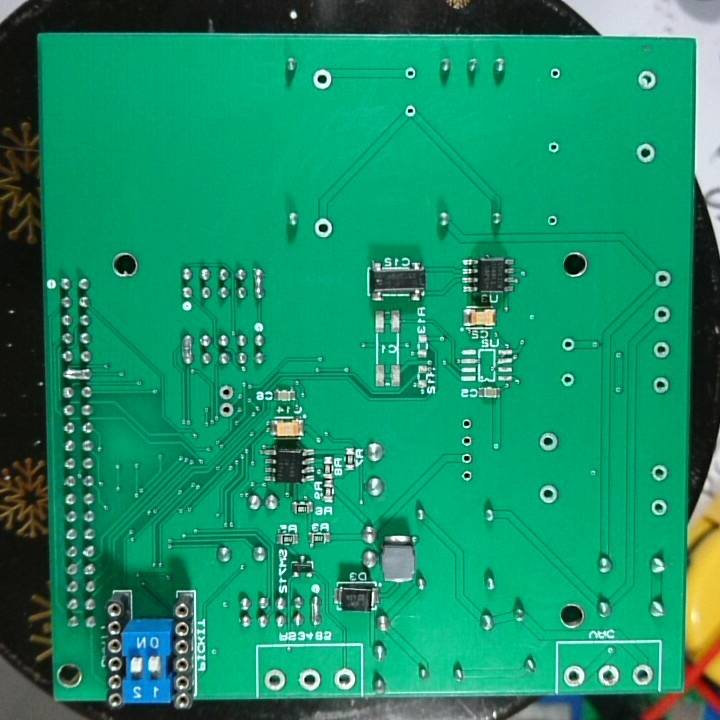F: (558, 662, 591, 692), (296, 666, 324, 693), (632, 139, 659, 166), (261, 666, 288, 692), (595, 663, 623, 688), (631, 660, 655, 689), (331, 666, 357, 692), (650, 303, 676, 328), (633, 68, 660, 92), (536, 481, 561, 506), (537, 429, 561, 455), (311, 217, 336, 241), (310, 68, 334, 91), (652, 339, 673, 364), (651, 269, 674, 291), (649, 496, 670, 519), (651, 376, 673, 397), (650, 462, 671, 484), (216, 400, 237, 421), (216, 383, 238, 403), (559, 370, 577, 392), (559, 334, 576, 355), (402, 102, 420, 121), (544, 210, 559, 232), (545, 138, 562, 157), (459, 415, 476, 432), (459, 432, 476, 449), (459, 449, 476, 466), (459, 467, 474, 486), (403, 64, 419, 81), (547, 66, 563, 82)
P: (250, 266, 269, 300), (177, 334, 197, 365), (307, 594, 326, 626), (59, 367, 95, 383)
